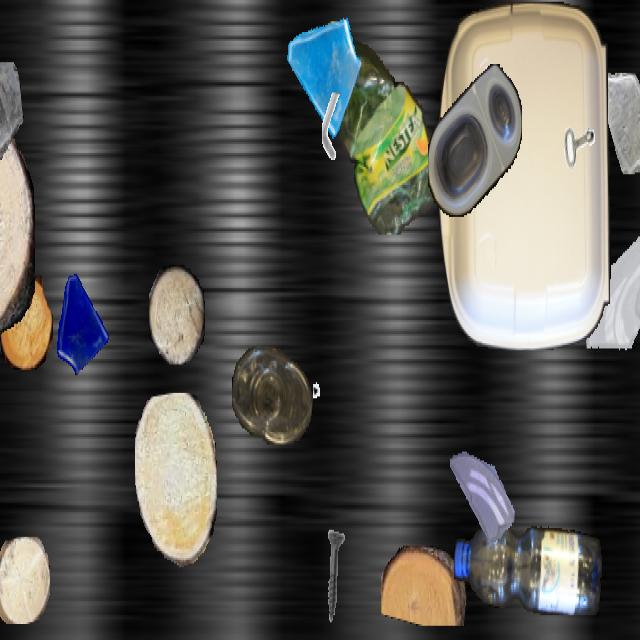glass: (283, 2, 361, 140), (584, 234, 640, 380), (450, 441, 514, 555), (51, 269, 111, 375), (596, 73, 640, 172), (0, 62, 23, 201)
metal: (545, 73, 605, 179), (306, 528, 362, 628), (312, 92, 352, 164), (313, 366, 351, 434)
plastic: (438, 2, 610, 350), (308, 21, 438, 235), (428, 64, 522, 217), (454, 519, 602, 615), (232, 347, 312, 442)
wood: (135, 393, 217, 567), (0, 109, 35, 343), (381, 546, 467, 624), (149, 265, 205, 364), (0, 276, 52, 368), (0, 537, 50, 622)
